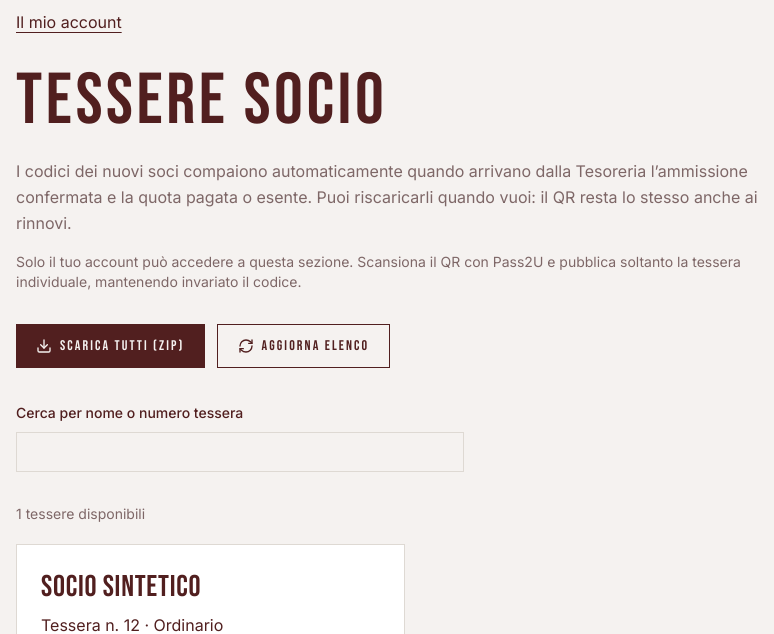
Test: owner-only card management page › filters by member/card number and explains an empty list or backend failure safely
Later steps or results of the test are not shown.
Expected: the heading "Socio sintetico" is shown, [41,569,201,605]
In the field labelled "Cerca per nome o numero tessera": (240, 452) [16,432,464,472], type "99"
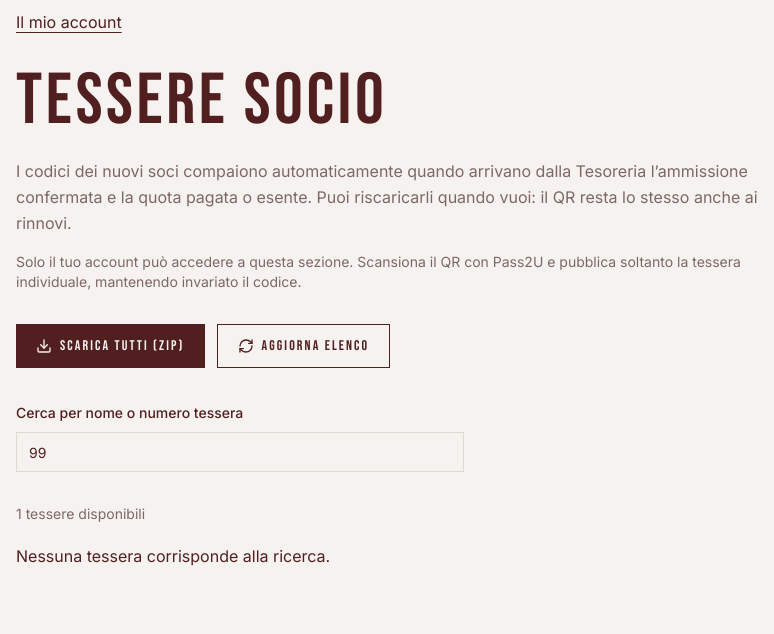
Expected: the text "Nessuna tessera corrisponde alla ricerca." is shown, [16,546,330,566]
Replace the text in the field labelled "Cerca per nome o numero tessera" with "12": (240, 452) [16,432,464,472]
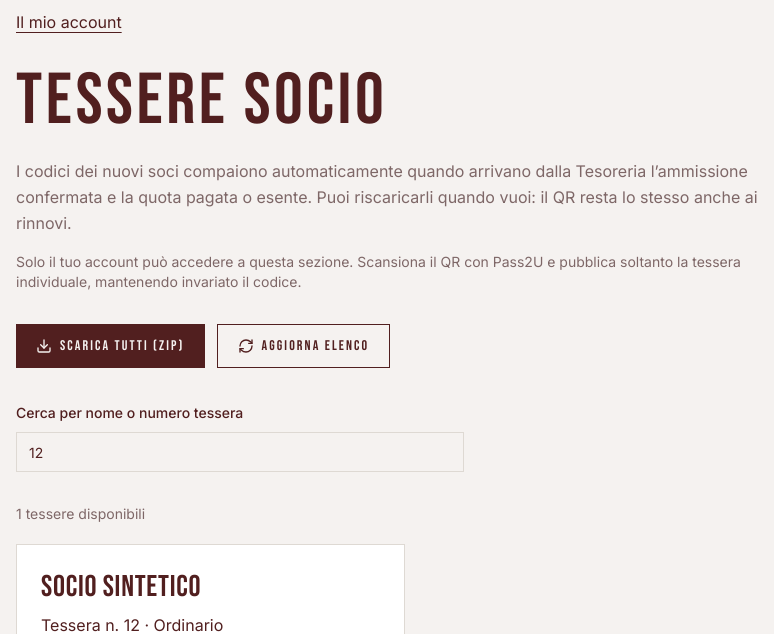
Expected: the heading "Socio sintetico" is shown, [41,569,201,605]
